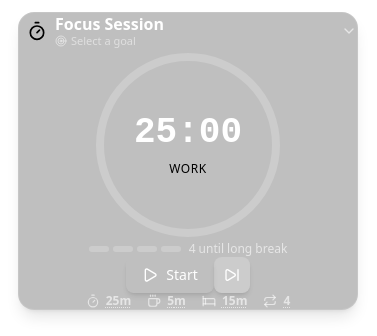
Test: PomodoroTimer - goal picker › opens the dropdown from the header and lists only incomplete goals
This screenshot has width=377, height=336.
Step 1. Click the button titled "Select a goal" → (110, 24), box [55,14,357,47]
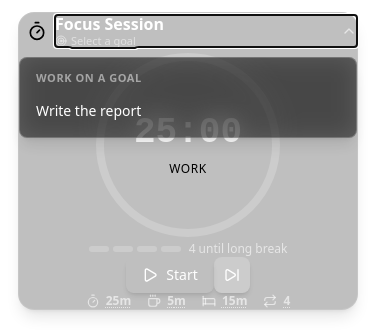
Check: the text "Work on a goal" is shown, box [36,70,142,85]
Check: the button "Write the report" is shown, box [28,92,348,128]
